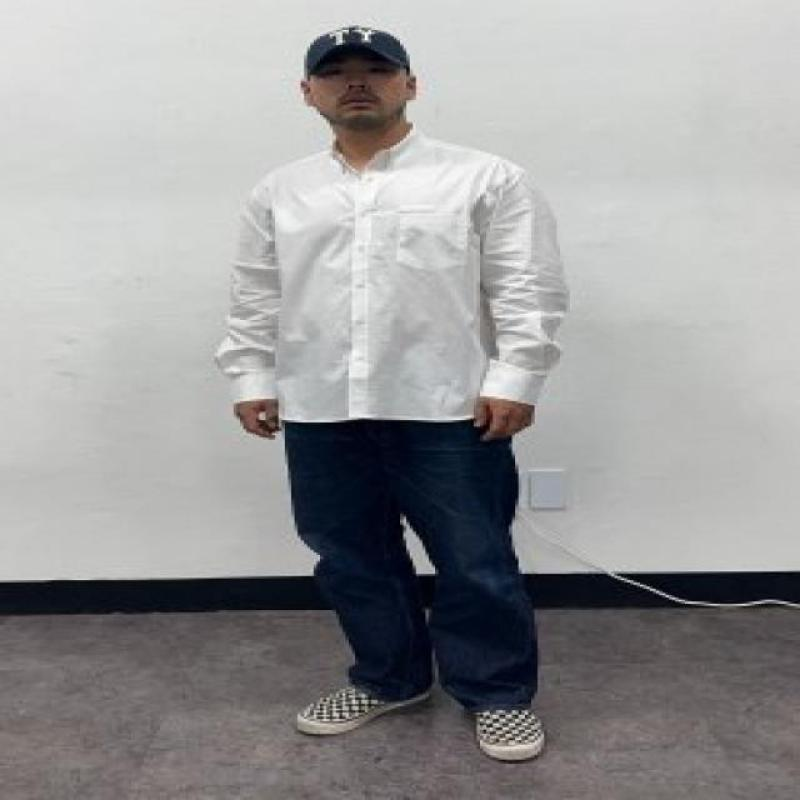long sleeve shirt: (214, 120, 572, 427)
trousers: (281, 415, 542, 710)
